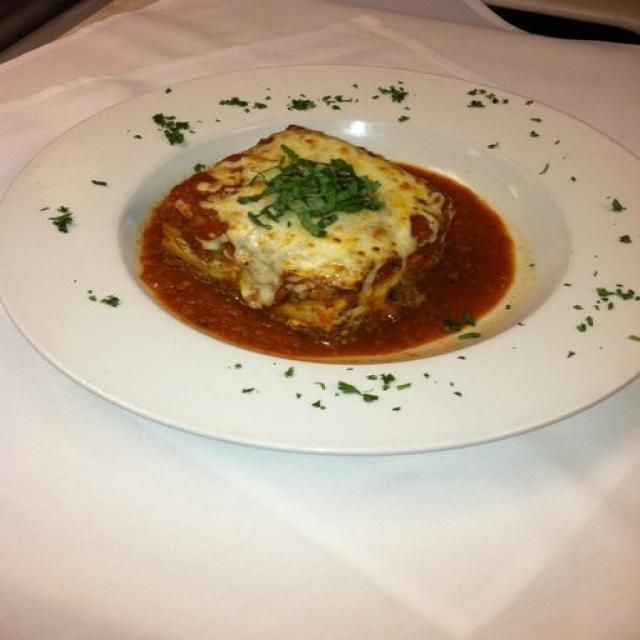Lasagna: (144, 118, 484, 339)
